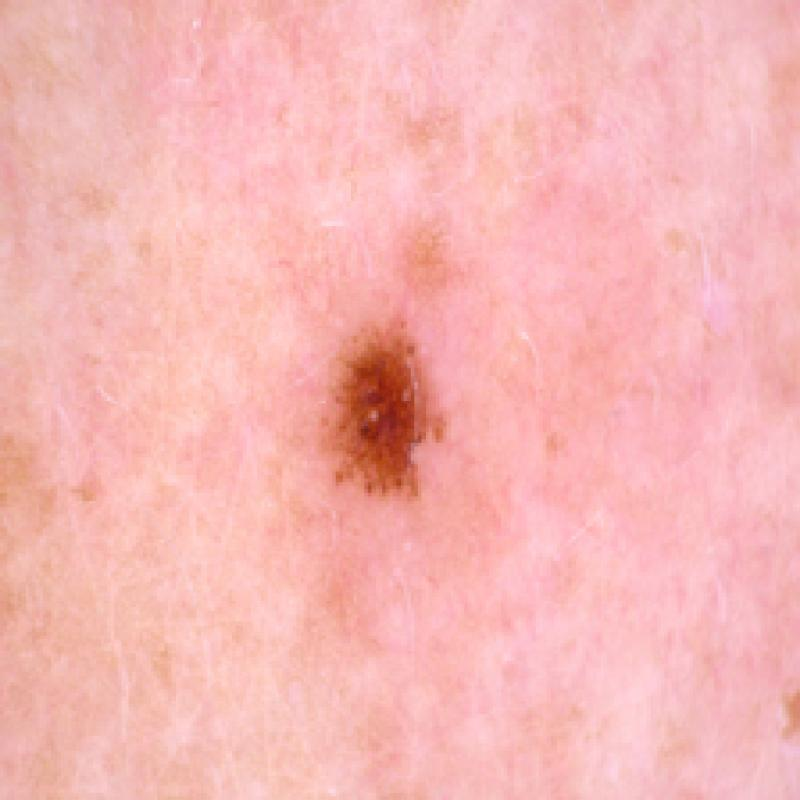benign: (278, 179, 494, 526)
